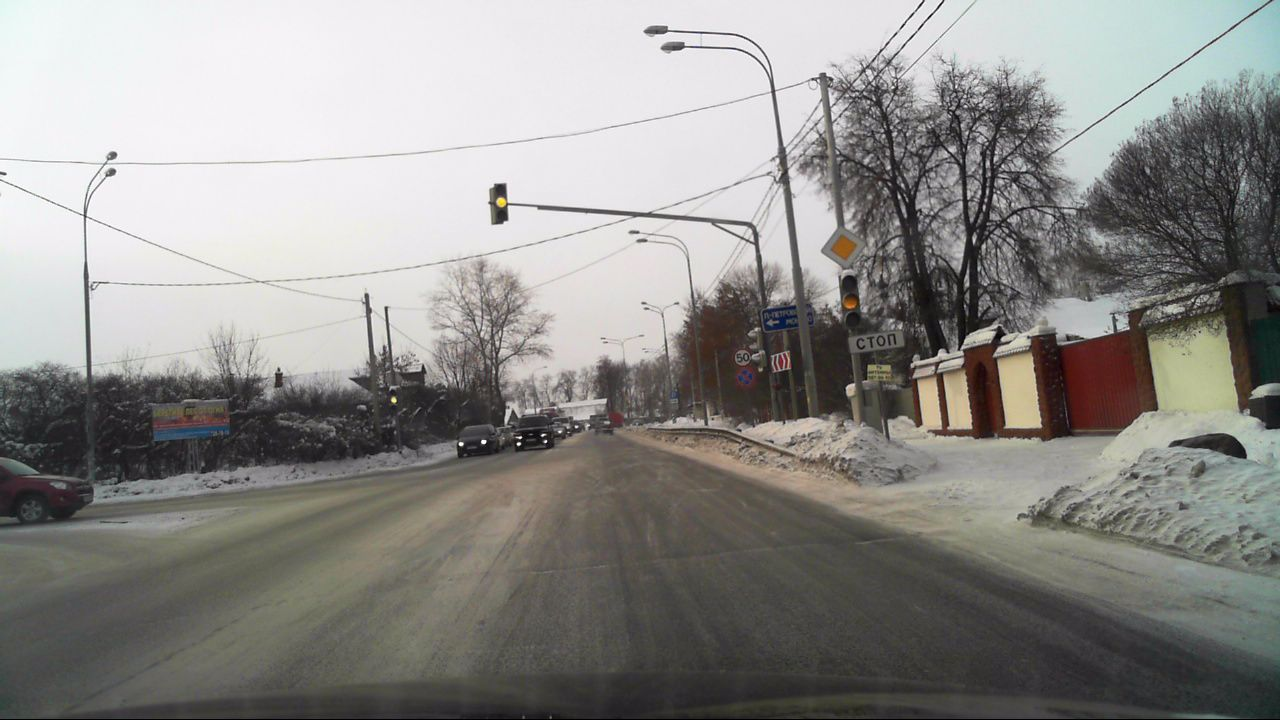No Parking: (736, 368, 755, 386)
